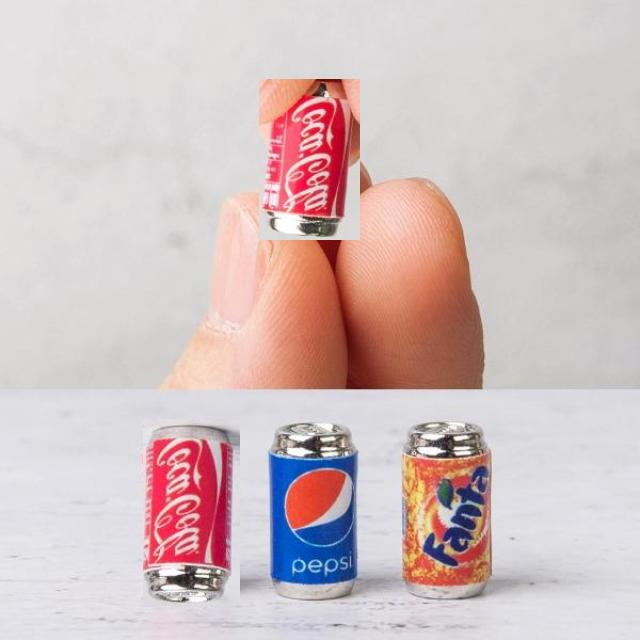coca-cola: (143, 419, 240, 606), (259, 79, 360, 240)
